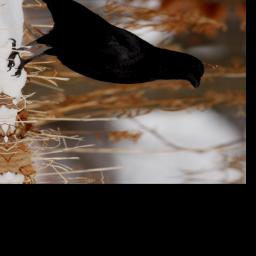Crow: (0, 0, 210, 99)
